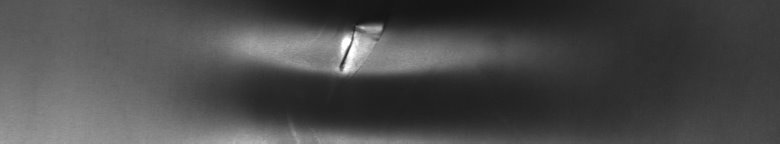ke: (244, 16, 484, 136)
